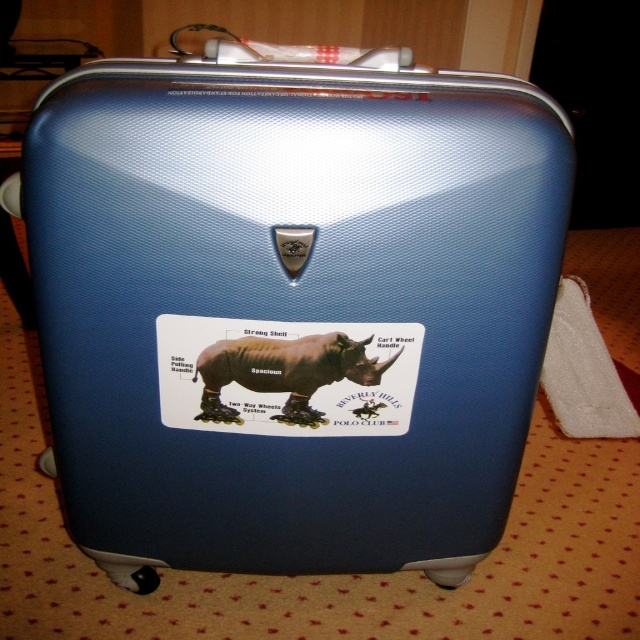Rhinoceros: (188, 329, 408, 424)
